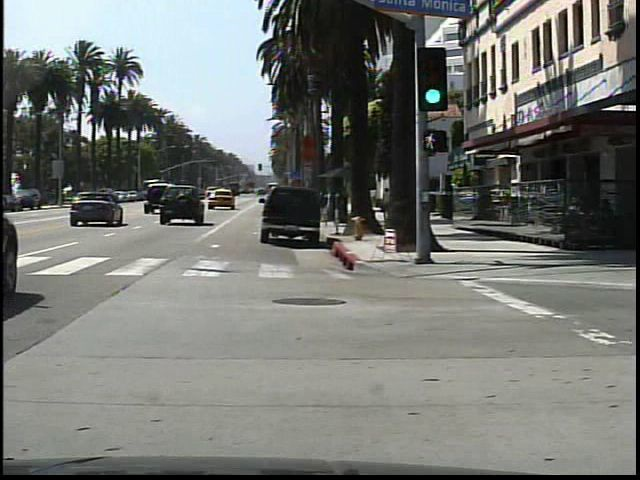person: (380, 185, 392, 227)
